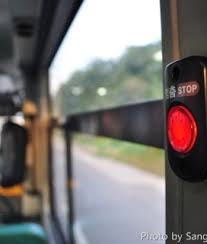bell: (164, 61, 207, 182)
